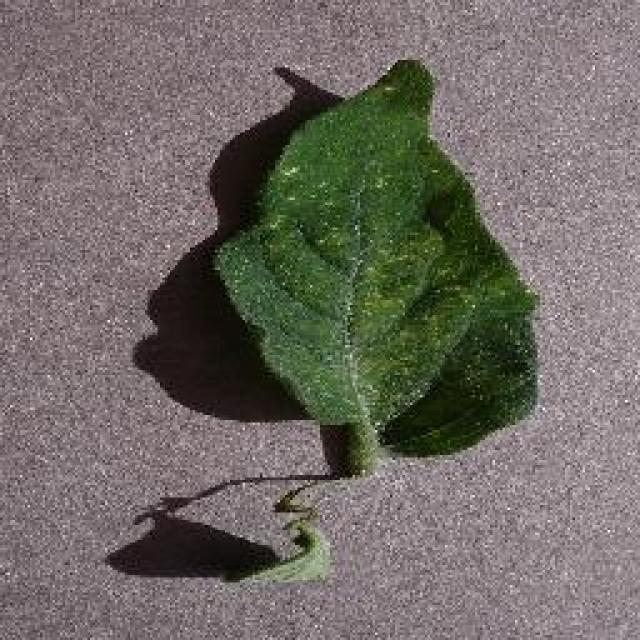Tomato spider mites leaf: (212, 48, 542, 462)
